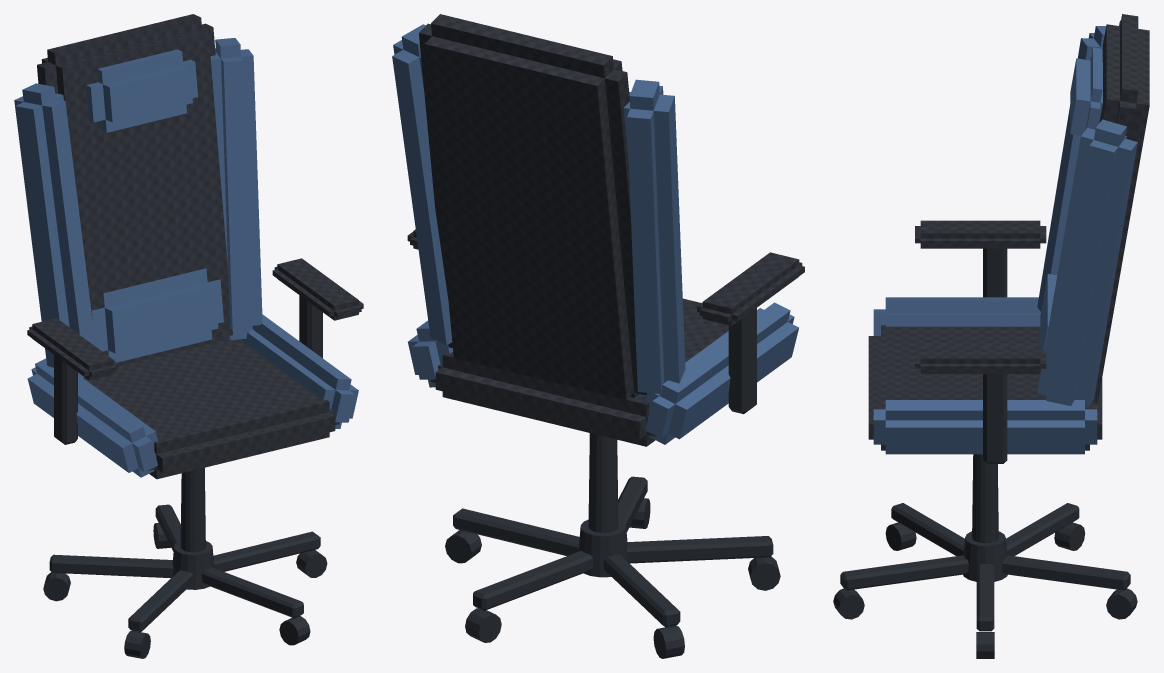
File: gaming_chair.obj
3 renders of one model, left to right at view 1: azimuth 30°, elevation 25°; view 2: azimuth 150°, elevation 25°; view 3: azimuth 270°, elevation 25°, orthographic. The views are drawn at different scales.
Visible parts, largest first — view 1: BackrestCenter, SeatCenter, BackBolster_Left, BackBolster_Right, LumbarPillow, HeadrestPillow, SeatBolster_Left, SeatBolster_Right, ArmPad_Right, ArmPad_Left, StarArm_2, GasLift (+11 smaller); view 2: BackrestCenter, BackBolster_Left, SeatCenter, BackBolster_Right, SeatBolster_Left, ArmPad_Left, StarArm_3, GasLift, StarArm_0, StarArm_1, ArmPost_Left, StarArm_2 (+7 smaller); view 3: BackBolster_Right, SeatBolster_Right, SeatCenter, BackrestCenter, SeatBolster_Left, ArmPad_Left, ArmPad_Right, BackBolster_Left, StarArm_1, StarArm_4, HeadrestPillow, ArmPost_Right (+12 smaller).
Boxes of the visible parts, x1,y1,x2,y2 form: BackrestCenter: (37,14,232,366); SeatCenter: (83,336,339,479); BackBolster_Left: (14,83,95,377); BackBolster_Right: (210,38,262,340); LumbarPillow: (91,268,223,362); HeadrestPillow: (86,49,197,132); SeatBolster_Left: (27,358,157,477); SeatBolster_Right: (240,314,358,428); ArmPad_Right: (272,258,363,320); ArmPad_Left: (27,318,118,380); StarArm_2: (49,554,173,577); GasLift: (180,467,205,552); BackrestCenter: (419,14,646,399); BackBolster_Left: (623,79,685,396); SeatCenter: (430,298,728,446); BackBolster_Right: (392,24,452,345); SeatBolster_Left: (645,302,798,444); ArmPad_Left: (697,252,804,325); StarArm_3: (626,536,773,563); GasLift: (588,433,618,532); StarArm_0: (453,508,579,555); StarArm_1: (473,550,593,610); ArmPost_Left: (728,308,756,414); StarArm_2: (603,554,680,627); BackBolster_Right: (1037,119,1137,407); SeatBolster_Right: (873,400,1097,454); SeatCenter: (868,325,1102,450); BackrestCenter: (1092,14,1149,402); SeatBolster_Left: (873,297,1040,335); ArmPad_Left: (915,220,1046,248); ArmPad_Right: (915,346,1046,373); BackBolster_Left: (1037,26,1106,311); StarArm_1: (1001,555,1130,590); StarArm_4: (840,555,968,590); HeadrestPillow: (1070,47,1102,135); ArmPost_Right: (983,374,1007,463).
Size of the model in its own units: 0.695 by 1.24 by 0.651.
3 materials, 1 textured.
